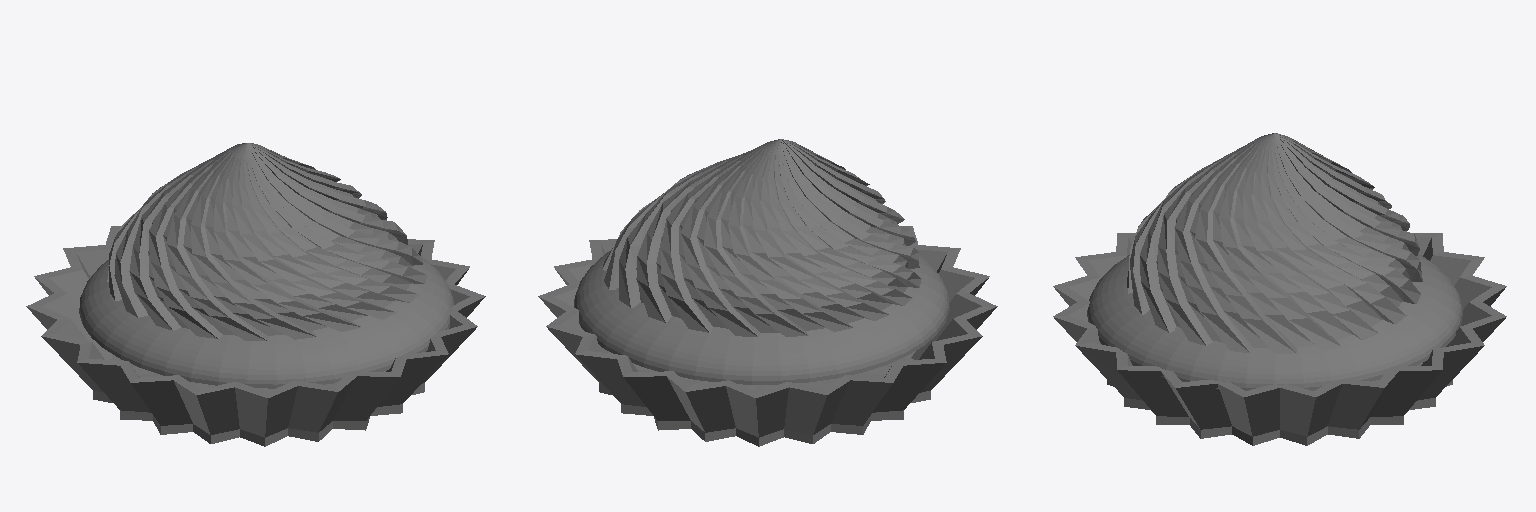
Rendered from Cupcake_roof.obj.
3 views of the same model, side by side, from view 1: azimuth 30°, elevation 25°; view 2: azimuth 150°, elevation 25°; view 3: azimuth 270°, elevation 25° (orthographic).
Parts seen in each view (by area): view 1: polySurface34_polySurface34, polySurface10_polySurface10, polySurface18_polySurface18; view 2: polySurface34_polySurface34, polySurface10_polySurface10, polySurface18_polySurface18; view 3: polySurface34_polySurface34, polySurface10_polySurface10, polySurface18_polySurface18.
Part boxes in pixels (x1,y1,x2,y2): polySurface34_polySurface34: (107, 143, 426, 340); polySurface10_polySurface10: (26, 226, 485, 446); polySurface18_polySurface18: (79, 254, 454, 388); polySurface34_polySurface34: (602, 139, 921, 336); polySurface10_polySurface10: (538, 226, 997, 446); polySurface18_polySurface18: (574, 251, 949, 384); polySurface34_polySurface34: (1127, 133, 1422, 353); polySurface10_polySurface10: (1053, 233, 1506, 445); polySurface18_polySurface18: (1087, 254, 1462, 390).
Bounding box in the file's own units: 1.61 × 0.9142 × 1.61.